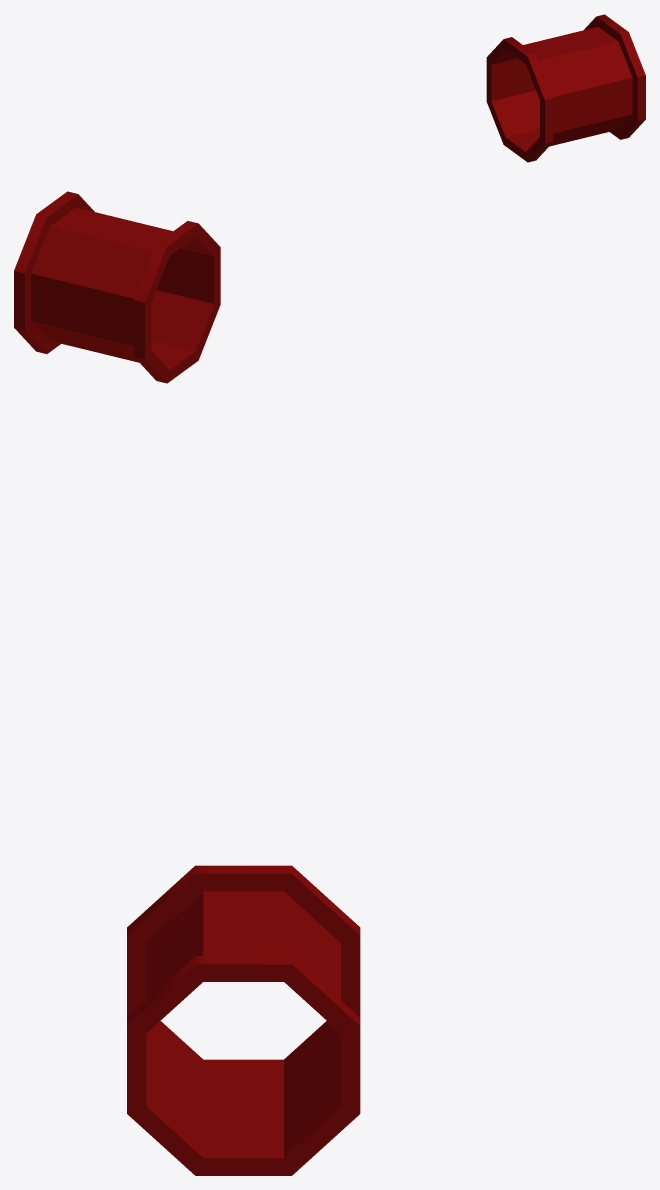
Rendered from the tube of glory(1).dae.
3 views of the same model, one above another, from view 1: azimuth 30°, elevation 25°; view 2: azimuth 150°, elevation 25°; view 3: azimuth 270°, elevation 25° (orthographic). The views are drawn at different scales.
Parts seen in each view (by area): view 1: SketchUp (×3); view 2: SketchUp (×3); view 3: SketchUp (×3).
Boxes of the visible parts, x1,y1,x2,y2 form: SketchUp (×3): (486, 14, 645, 162); SketchUp (×3): (14, 191, 220, 383); SketchUp (×3): (127, 865, 360, 1175).
Bounding box in the file's own units: 4958 × 1643 × 945.
